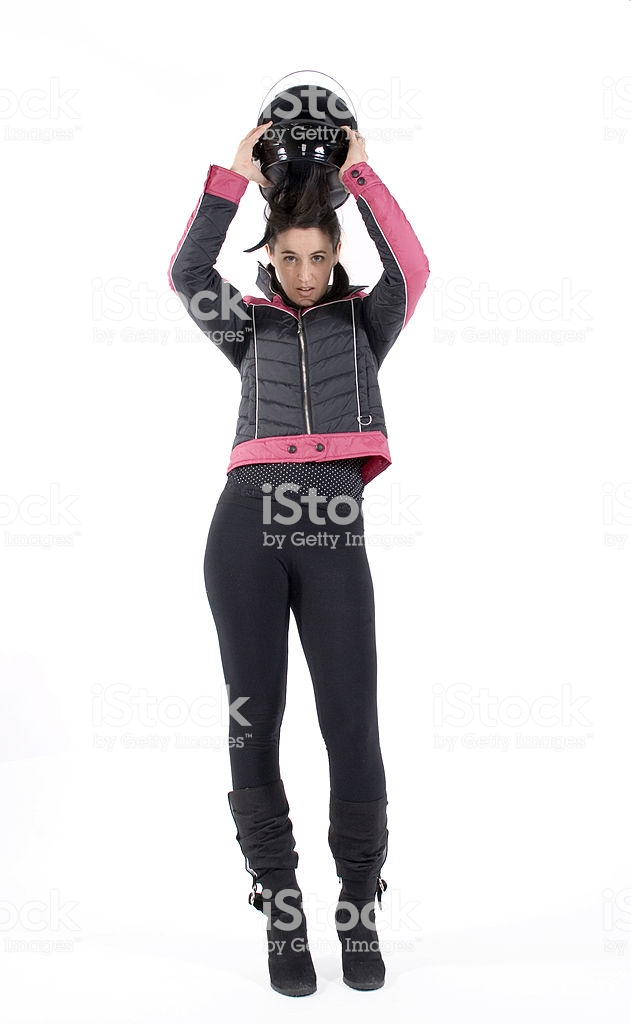helmet: (243, 75, 360, 201)
